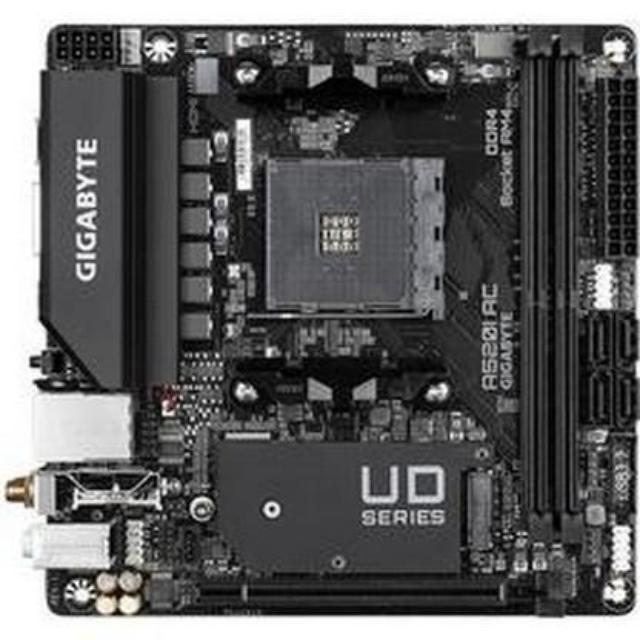Mainboard: (17, 11, 640, 628)
